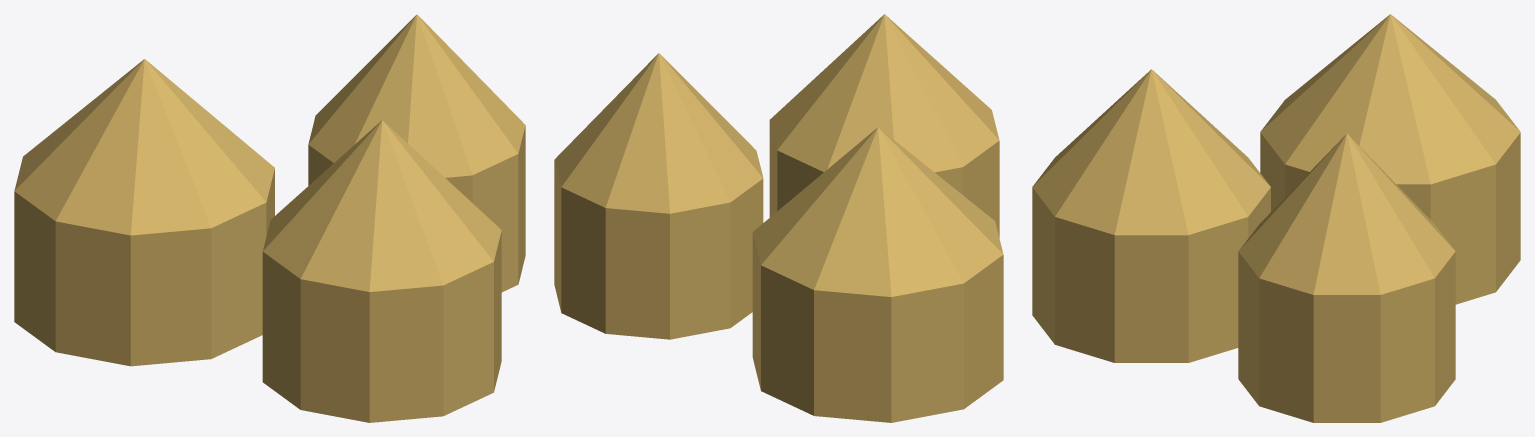
The model's file is haystacks.obj.
3 renders of one model, left to right at view 1: azimuth 30°, elevation 25°; view 2: azimuth 150°, elevation 25°; view 3: azimuth 270°, elevation 25°, orthographic. The views are drawn at different scales.
Size of the model in its own units: 4.69 by 2.5 by 4.5.
